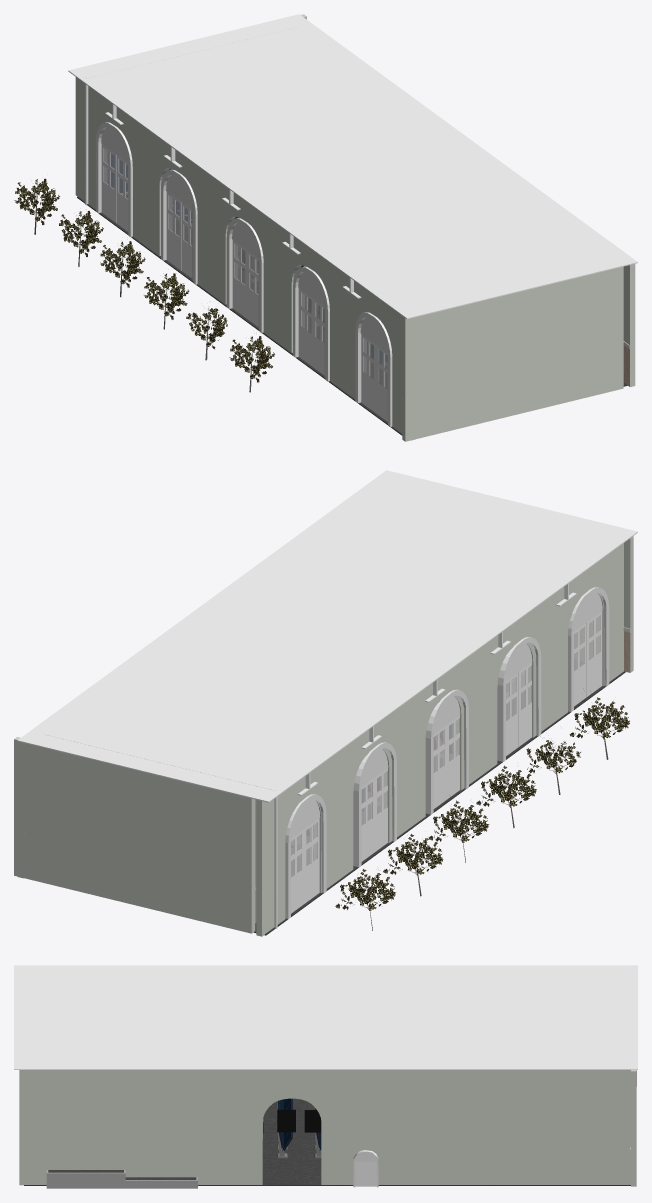
The model's file is BriefingRoom.glb.
3 views of the same model, one above another, from view 1: azimuth 30°, elevation 25°; view 2: azimuth 150°, elevation 25°; view 3: azimuth 270°, elevation 25° (orthographic). The views are drawn at different scales.
Parts seen in each view (by area): view 1: ceiling, wall, door wood, door, Leaf, glass, carpet, blue wall; view 2: ceiling, wall, door wood, door, Leaf, glass, carpet, blue wall; view 3: ceiling, wall, carpet, platform metal, Pictures 1, door, chair fabric, door wood.
Boxes of the visible parts, box(x1,y1,x2,y2) form: ceiling: box(68, 14, 637, 319); wall: box(75, 14, 635, 441); door wood: box(96, 122, 392, 427); door: box(101, 144, 387, 421); Leaf: box(14, 178, 274, 382); glass: box(104, 148, 387, 389); carpet: box(77, 195, 627, 435); blue wall: box(85, 26, 298, 205); ceiling: box(17, 470, 637, 802); wall: box(14, 536, 633, 936); door wood: box(285, 587, 609, 919); door: box(291, 611, 602, 913); Leaf: box(335, 697, 629, 910); glass: box(291, 615, 600, 877); carpet: box(254, 659, 625, 935); blue wall: box(44, 733, 277, 928); ceiling: box(14, 965, 637, 1069); wall: box(19, 1069, 636, 1186); carpet: box(24, 1098, 630, 1185); platform metal: box(46, 1170, 197, 1188); Pictures 1: box(263, 1109, 321, 1133); door: box(355, 1161, 376, 1186); chair fabric: box(278, 1098, 321, 1150); door wood: box(353, 1150, 378, 1187).
Size of the model in its own units: 11.53 by 4.34 by 21.01.
Materials: 47 (31 with a texture image).
